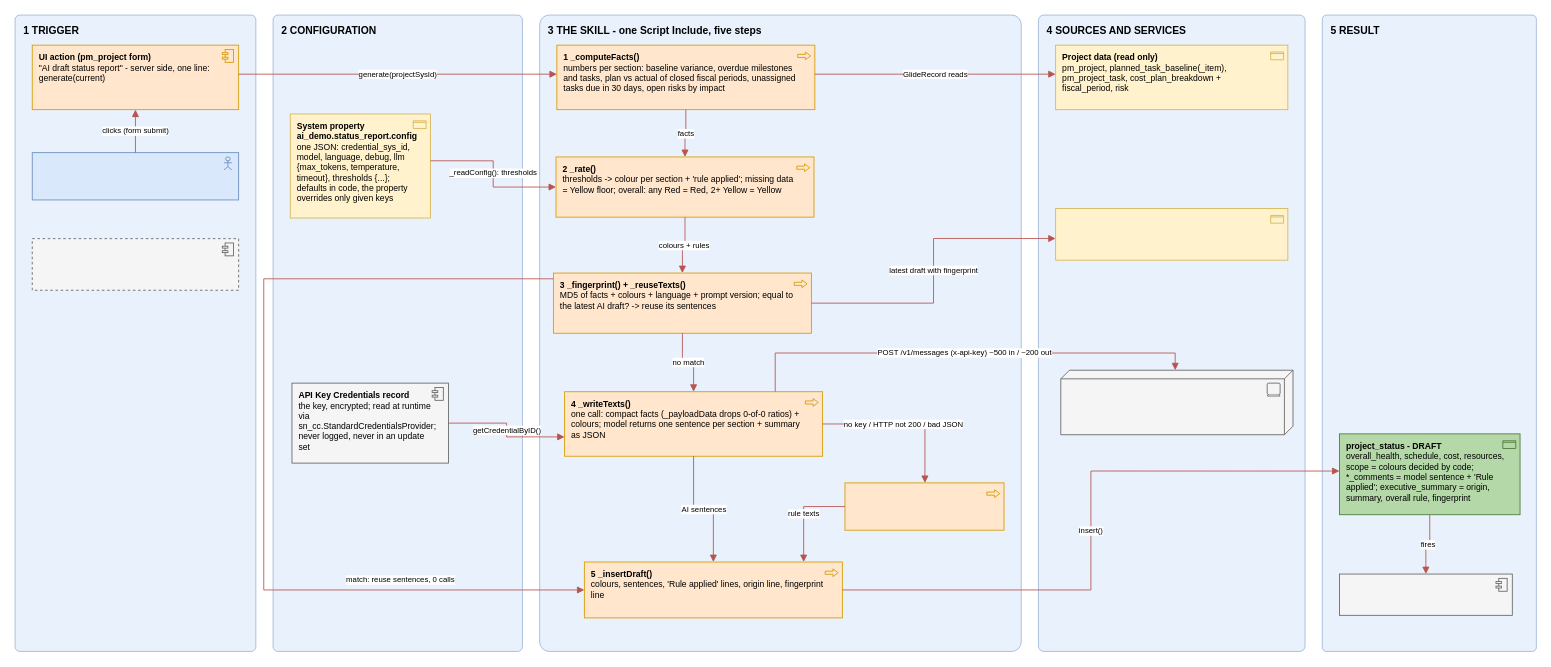
This 1551x667 diagram has some shape labels left out. The centre of each missing label's shape, as x and y in pixels:
_ruleTexts() fallback: the rule lines as text: the point at 924,506
Anthropic Messages API claude-haiku-4-5, temperature 0.2, max 450 tokens: the point at 1176,402
OOTB rule on insert 'Create project status report baselines': the point at 1425,594
Project manager role it_project_manager: the point at 135,176
project_status - earlier AI drafts only drafts carrying the fingerprint line: the point at 1171,234
Scripts - Background same entry point generate(projectSysId), used for tests: the point at 135,264
